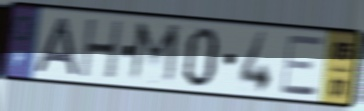0: (182, 26, 223, 90)
4: (237, 28, 274, 97)
A: (31, 15, 82, 77)
E: (279, 34, 325, 99)
H: (76, 17, 126, 82)
M: (125, 18, 183, 89)
